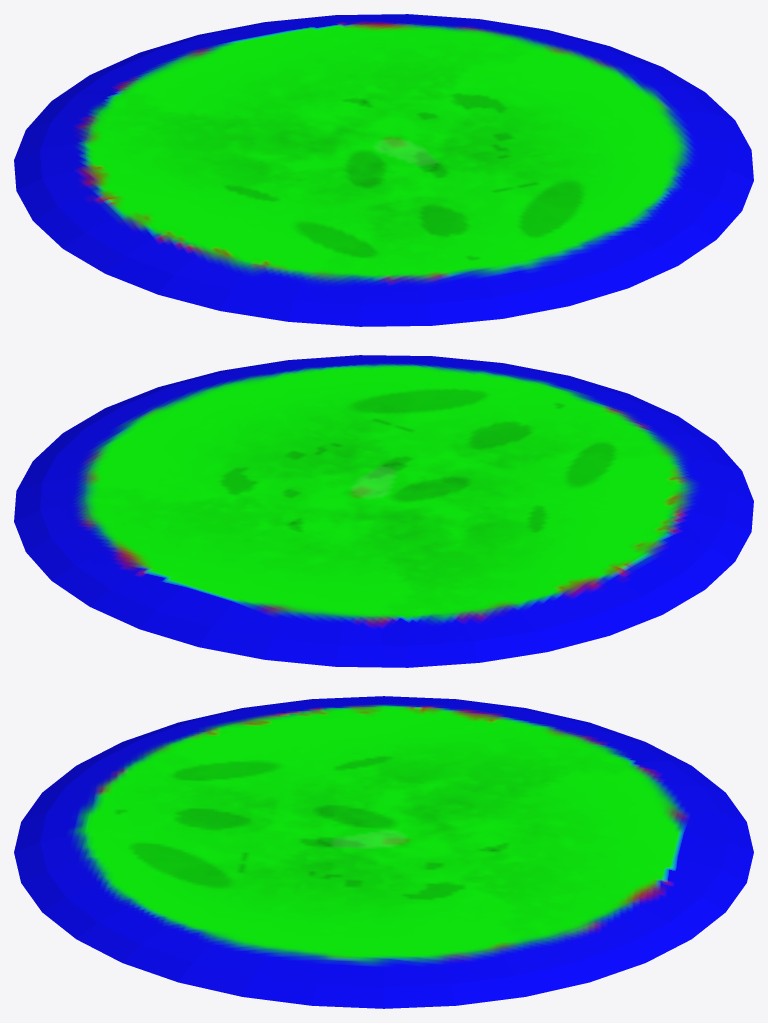
File: Terrain.glb
3 views of the same model, one above another, from view 1: azimuth 30°, elevation 25°; view 2: azimuth 150°, elevation 25°; view 3: azimuth 270°, elevation 25° (orthographic).
Visible parts, largest first — view 1: Terrain-col; view 2: Terrain-col; view 3: Terrain-col.
Part boxes in pixels (x1=…): Terrain-col: x1=14, y1=14, x2=753, y2=326; Terrain-col: x1=14, y1=355, x2=753, y2=667; Terrain-col: x1=14, y1=696, x2=753, y2=1008.
Size of what is drawn, in the model's own units: 570 by 16.66 by 570.
1 material, 1 textured.
